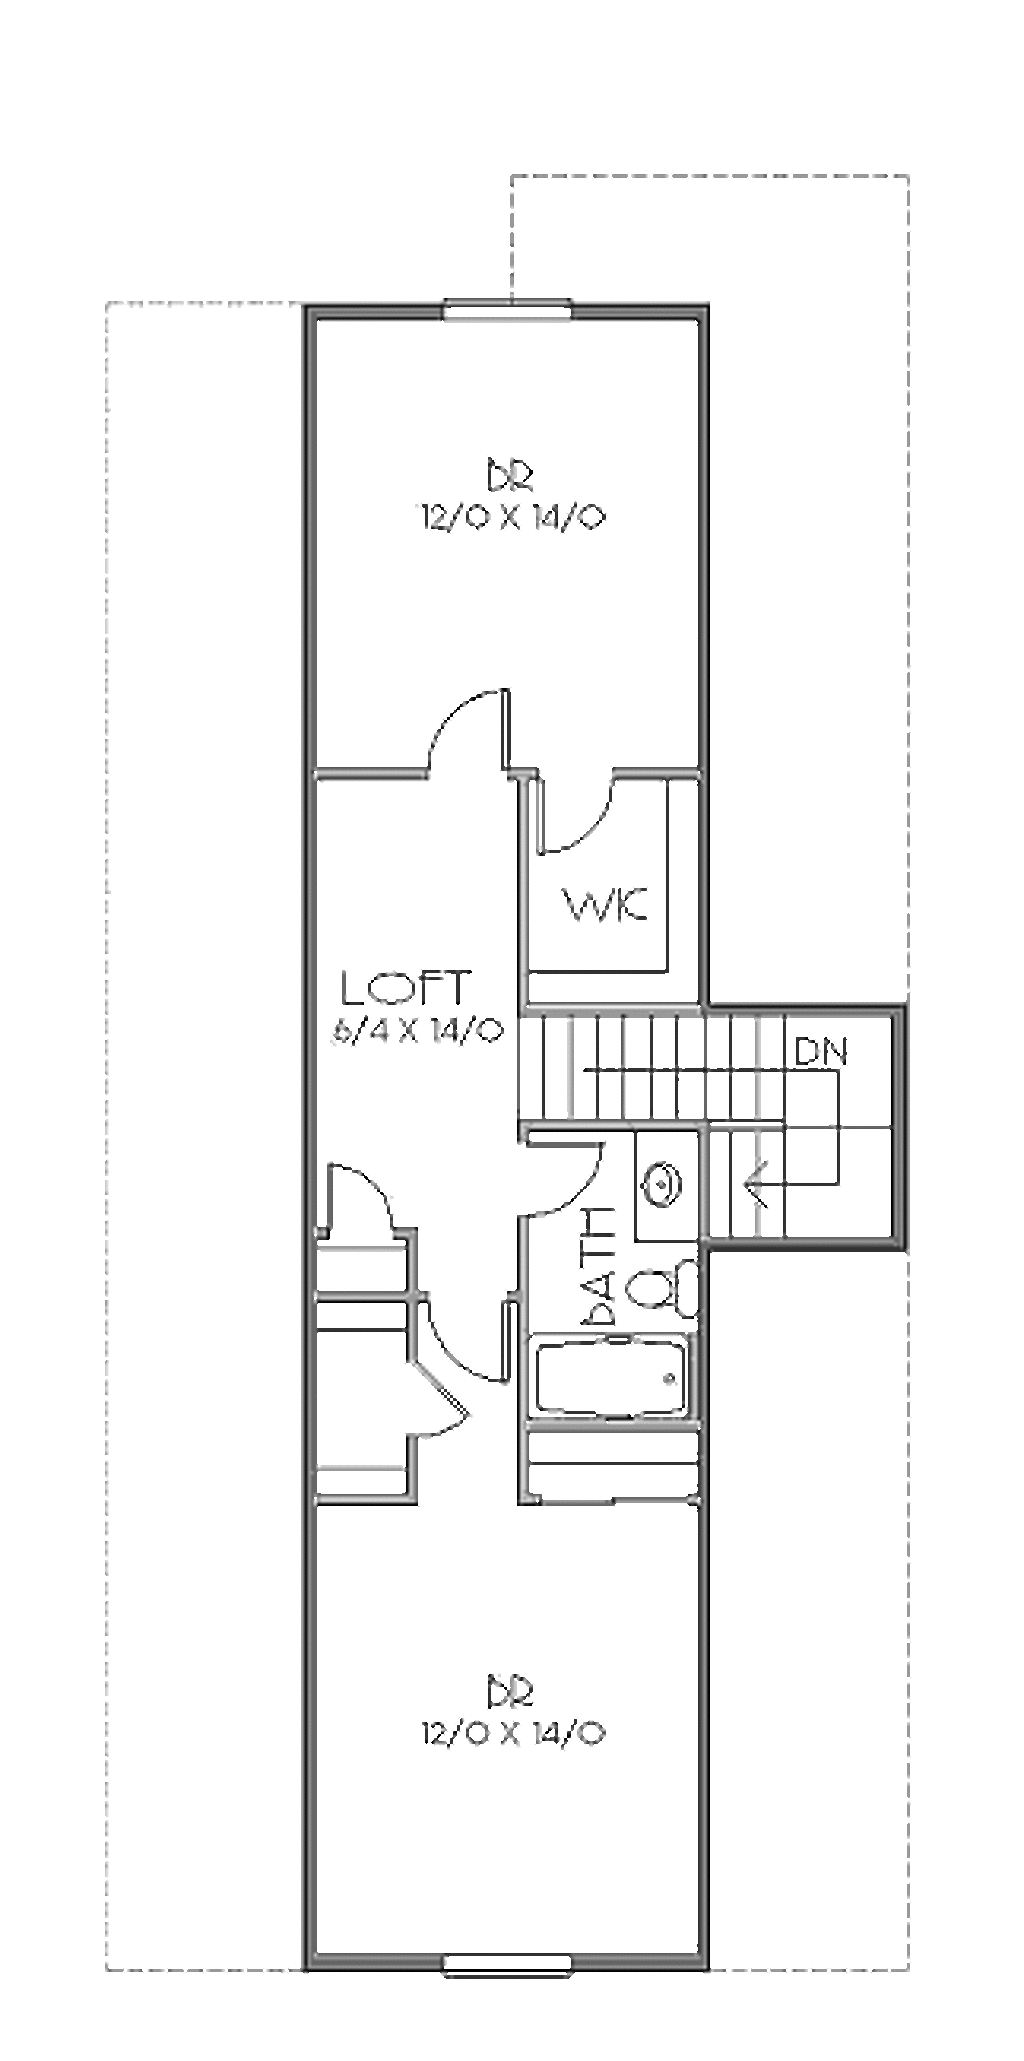door: (513, 754, 641, 886), (421, 677, 526, 790), (503, 1136, 626, 1225), (410, 1283, 507, 1385), (397, 1351, 468, 1445), (319, 1167, 410, 1232)
large_sink: (617, 1251, 707, 1318)
stairs: (503, 996, 891, 1245)
tub: (513, 1318, 694, 1420)
window: (426, 1935, 574, 1983), (426, 287, 574, 322)
